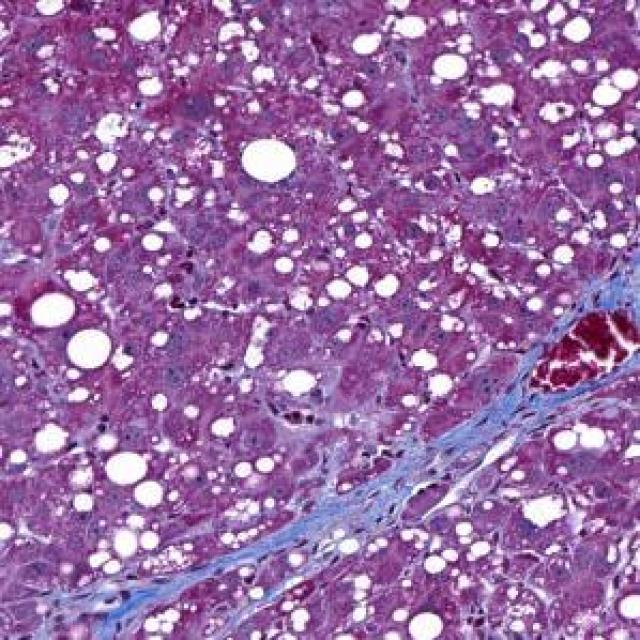fibrosis: (312, 402, 531, 526)
